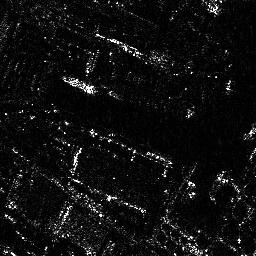ship: (62, 75, 98, 95)
